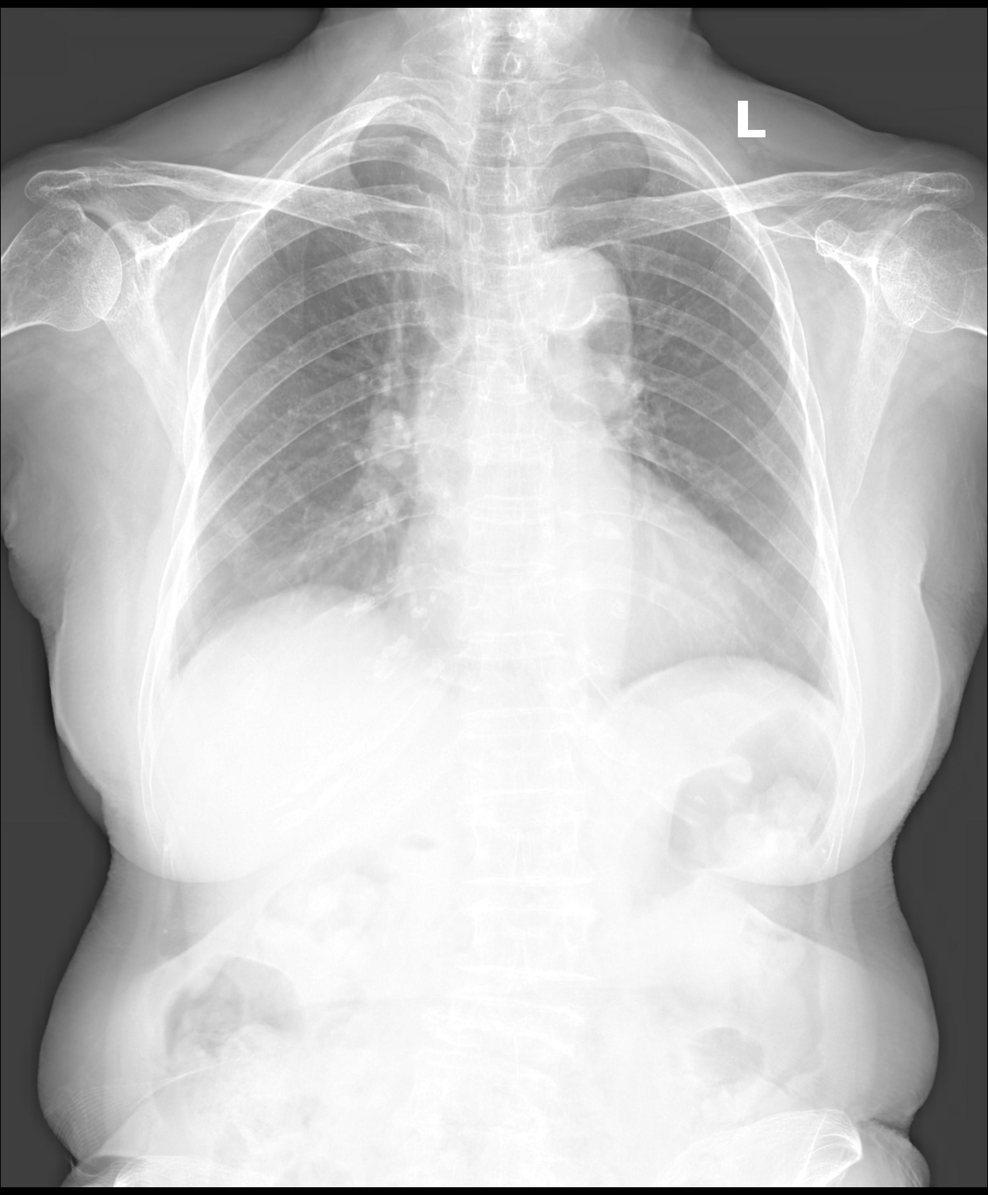Aortic enlargement: (506, 247, 634, 377)
Cardiomegaly: (390, 518, 783, 672)
Pleural thickening: (289, 123, 407, 177)
